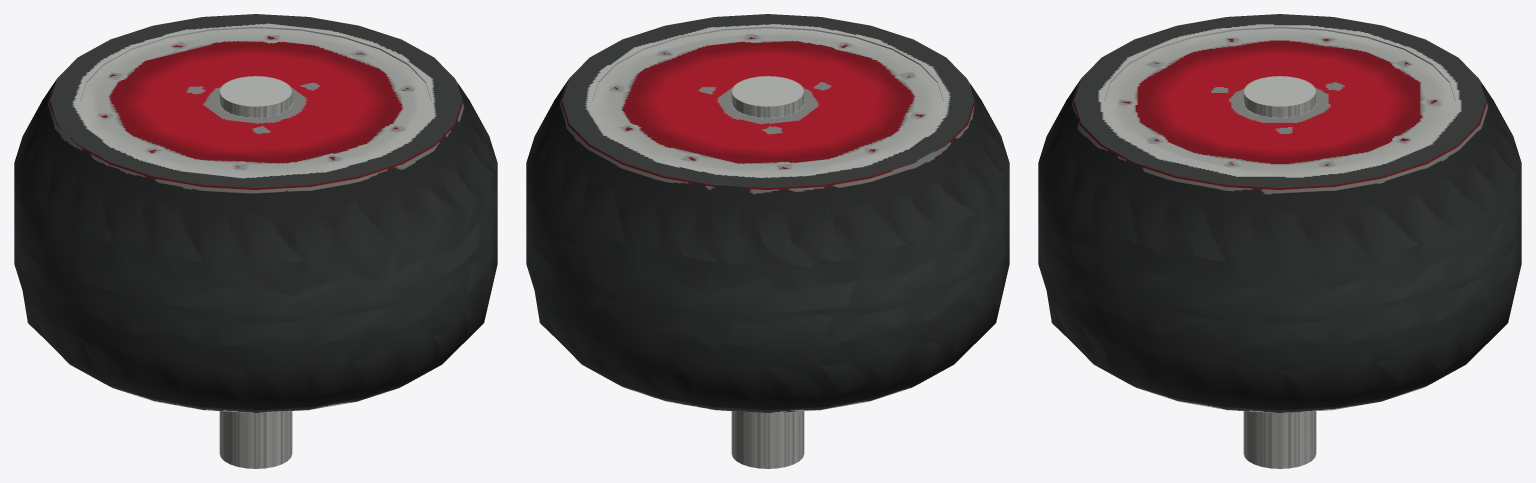
File: wheel.dae
The picture shows the model from 3 angles, left to right: view 1: azimuth 30°, elevation 25°; view 2: azimuth 150°, elevation 25°; view 3: azimuth 270°, elevation 25°; orthographic projection.
Visible parts, largest first — view 1: wheel; view 2: wheel; view 3: wheel.
Part boxes in pixels (x1,y1,x2,y2): wheel: [14, 14, 497, 468]; wheel: [526, 14, 1009, 468]; wheel: [1038, 14, 1521, 468].
Size of the model in its own units: 0.1596 by 0.1596 by 0.132.
3 materials, 3 textured.
